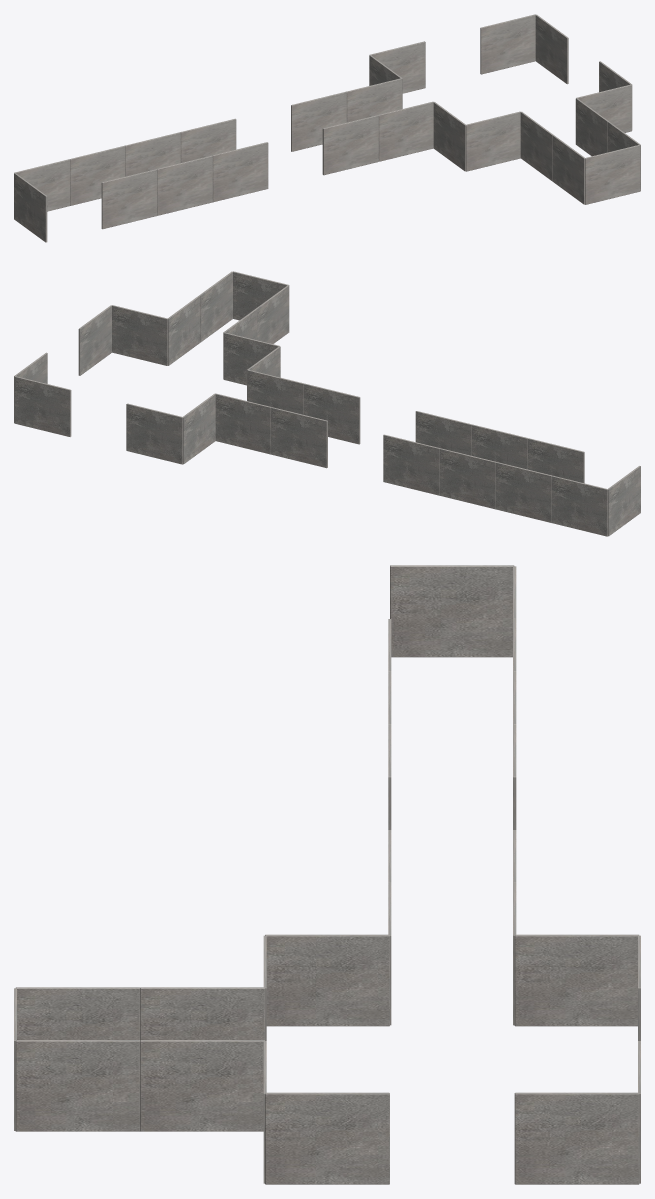
The model's file is SecondFloor_Walls.fbx.
3 views of the same model, one above another, from view 1: azimuth 30°, elevation 25°; view 2: azimuth 150°, elevation 25°; view 3: azimuth 270°, elevation 25° (orthographic). The views are drawn at different scales.
Parts seen in each view (by area): view 1: SecondFloor_Walls; view 2: SecondFloor_Walls; view 3: SecondFloor_Walls.
Part boxes in pixels (x1,y1,x2,y2): SecondFloor_Walls: (14,14,640,242); SecondFloor_Walls: (14,271,640,536); SecondFloor_Walls: (14,565,640,1184).
Bounding box in the file's own units: 10025 × 800 × 5025.
1 material, 1 textured.
